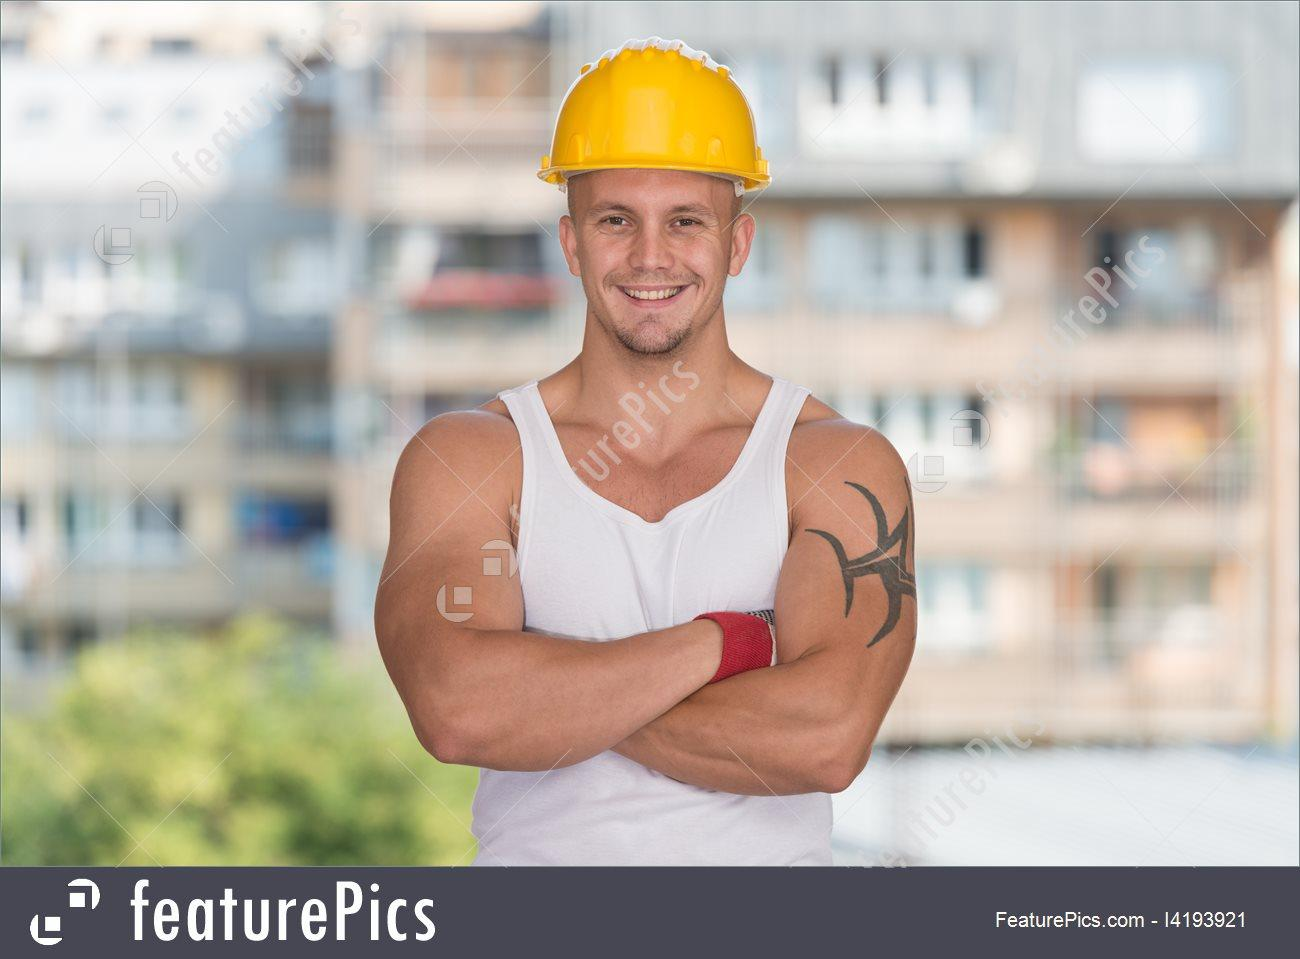helmet: (547, 42, 770, 197)
